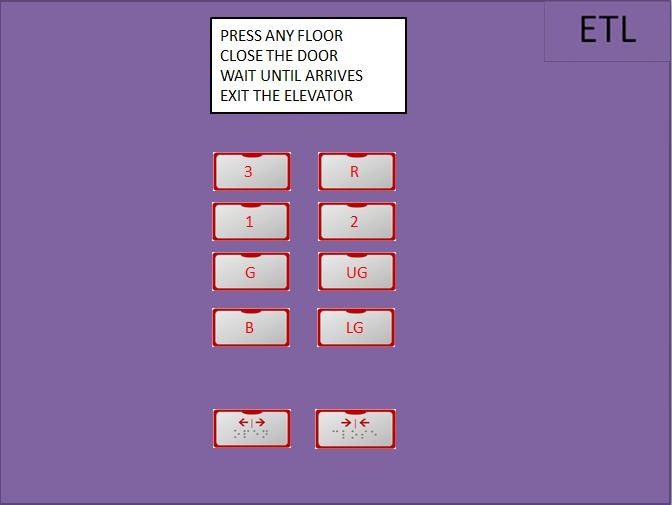1: (210, 199, 294, 245)
2: (313, 198, 398, 244)
3: (210, 148, 294, 196)
B: (209, 303, 293, 351)
G: (209, 247, 292, 294)
LG: (314, 304, 397, 350)
R: (315, 148, 399, 195)
UG: (315, 249, 398, 293)
close: (312, 405, 398, 454)
open: (210, 405, 293, 453)
